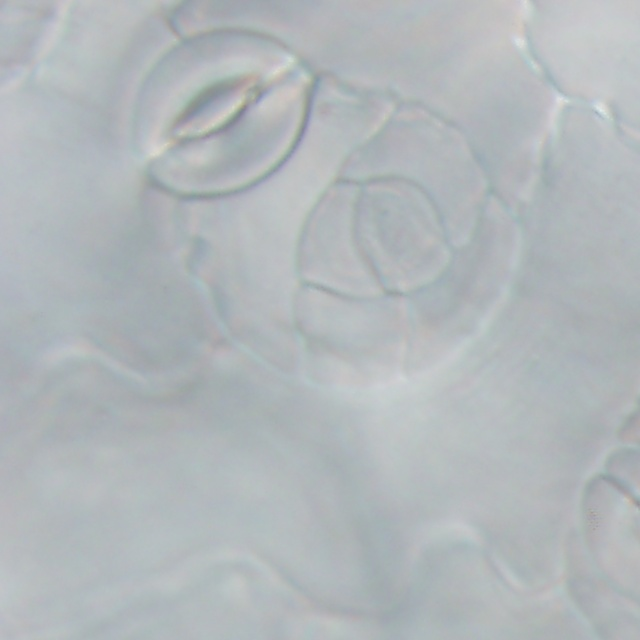center: (168, 76, 263, 144), (15, 40, 56, 52), (633, 501, 639, 538)
stomata-huw1: (131, 29, 311, 196), (581, 442, 639, 603), (1, 1, 70, 91)
